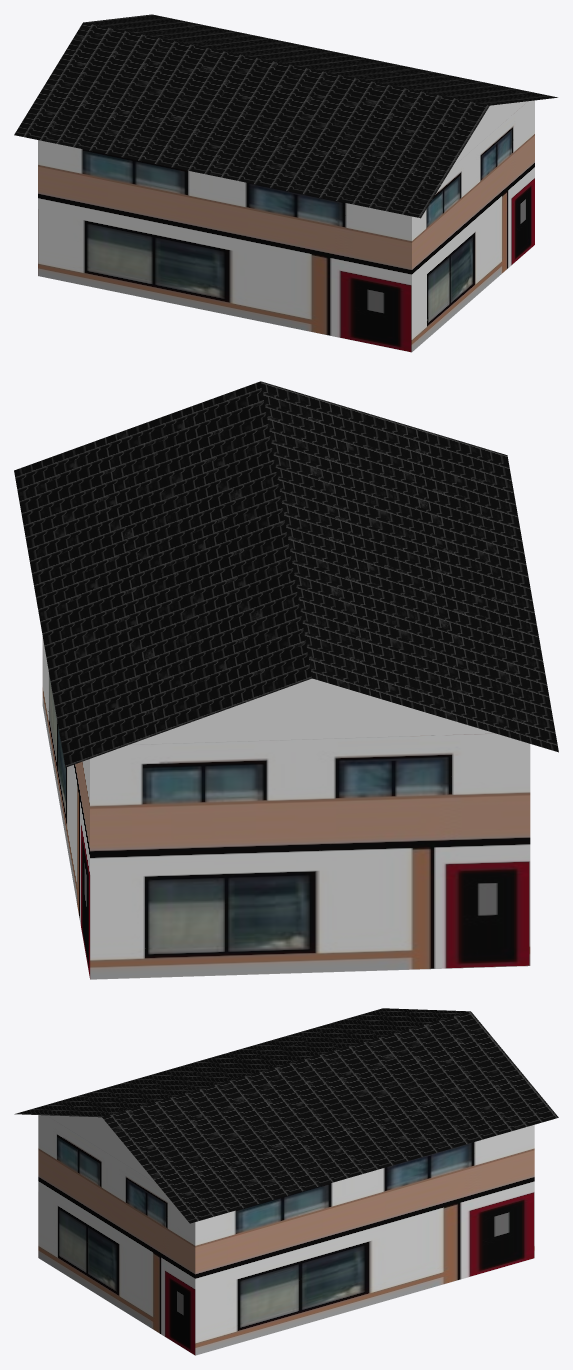
3 renders of one model, top to bottom at view 1: azimuth 30°, elevation 25°; view 2: azimuth 150°, elevation 25°; view 3: azimuth 270°, elevation 25°, orthographic. The views are drawn at different scales.
Parts seen in each view (by area): view 1: CityEngineMaterial_5_m, CityEngineMaterial_14_m, CityEngineMaterial_3_m; view 2: CityEngineMaterial_14_m, CityEngineMaterial_5_m, CityEngineMaterial_3_m; view 3: CityEngineMaterial_5_m, CityEngineMaterial_14_m, CityEngineMaterial_3_m.
Part boxes in pixels (x1=…): CityEngineMaterial_5_m: x1=38, y1=100, x2=534, y2=352; CityEngineMaterial_14_m: x1=14, y1=14, x2=557, y2=218; CityEngineMaterial_3_m: x1=452, y1=101, x2=527, y2=167; CityEngineMaterial_14_m: x1=14, y1=381, x2=558, y2=767; CityEngineMaterial_5_m: x1=42, y1=637, x2=530, y2=979; CityEngineMaterial_3_m: x1=129, y1=678, x2=495, y2=744; CityEngineMaterial_5_m: x1=38, y1=1115, x2=534, y2=1355; CityEngineMaterial_14_m: x1=14, y1=1008, x2=558, y2=1223; CityEngineMaterial_3_m: x1=47, y1=1115, x2=156, y2=1183.
Bounding box in the file's own units: 28.26 × 11.86 × 30.21.
